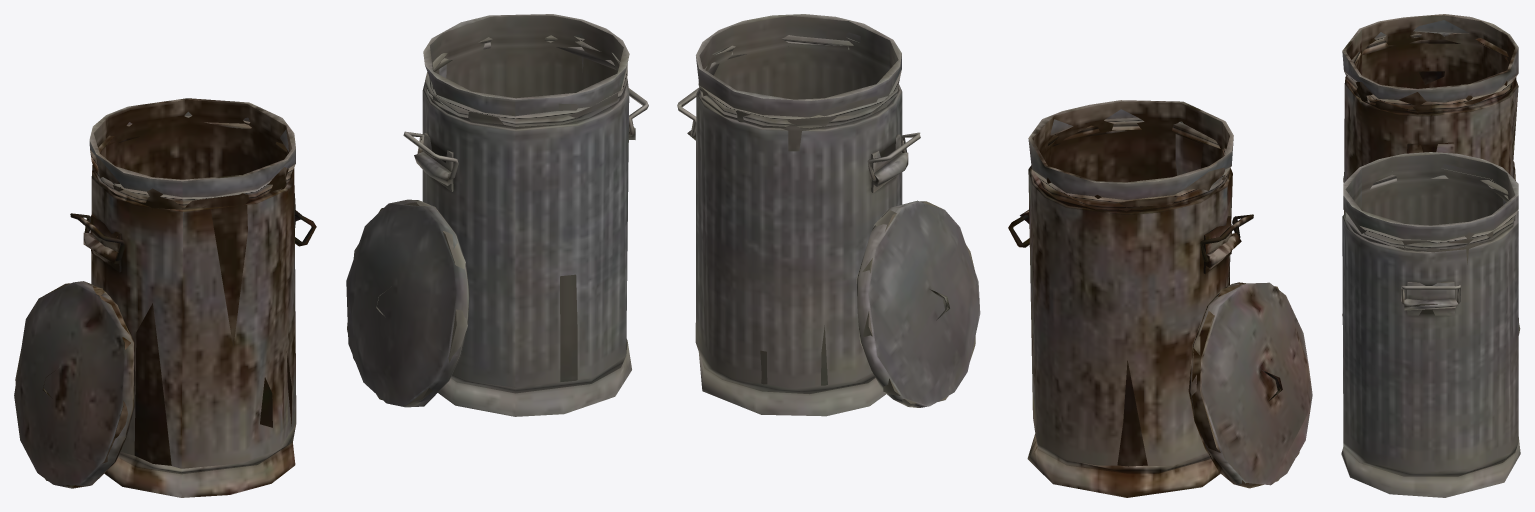
The model's file is metal_trash_can.glb.
3 views of the same model, side by side, from view 1: azimuth 30°, elevation 25°; view 2: azimuth 150°, elevation 25°; view 3: azimuth 270°, elevation 25° (orthographic). The views are drawn at different scales.
Parts seen in each view (by area): view 1: metal_trash_can, metal_trash_can_rust, metal_trash_can_lid, metal_trash_can_rust_lid; view 2: metal_trash_can, metal_trash_can_rust, metal_trash_can_lid, metal_trash_can_rust_lid; view 3: metal_trash_can, metal_trash_can_rust, metal_trash_can_handle_right.
Part boxes in pixels (x1=…): metal_trash_can: x1=414, y1=14, x2=635, y2=416; metal_trash_can_rust: x1=83, y1=98, x2=301, y2=497; metal_trash_can_lid: x1=346, y1=199, x2=469, y2=407; metal_trash_can_rust_lid: x1=14, y1=281, x2=135, y2=488; metal_trash_can: x1=687, y1=14, x2=908, y2=416; metal_trash_can_rust: x1=1020, y1=100, x2=1241, y2=497; metal_trash_can_lid: x1=856, y1=200, x2=980, y2=407; metal_trash_can_rust_lid: x1=1188, y1=282, x2=1312, y2=488; metal_trash_can: x1=1341, y1=152, x2=1520, y2=497; metal_trash_can_rust: x1=1342, y1=14, x2=1518, y2=315; metal_trash_can_handle_right: x1=1401, y1=285, x2=1460, y2=304.
Size of the model in its own units: 1.78 by 0.9062 by 0.5446.
2 materials, 2 textured.
